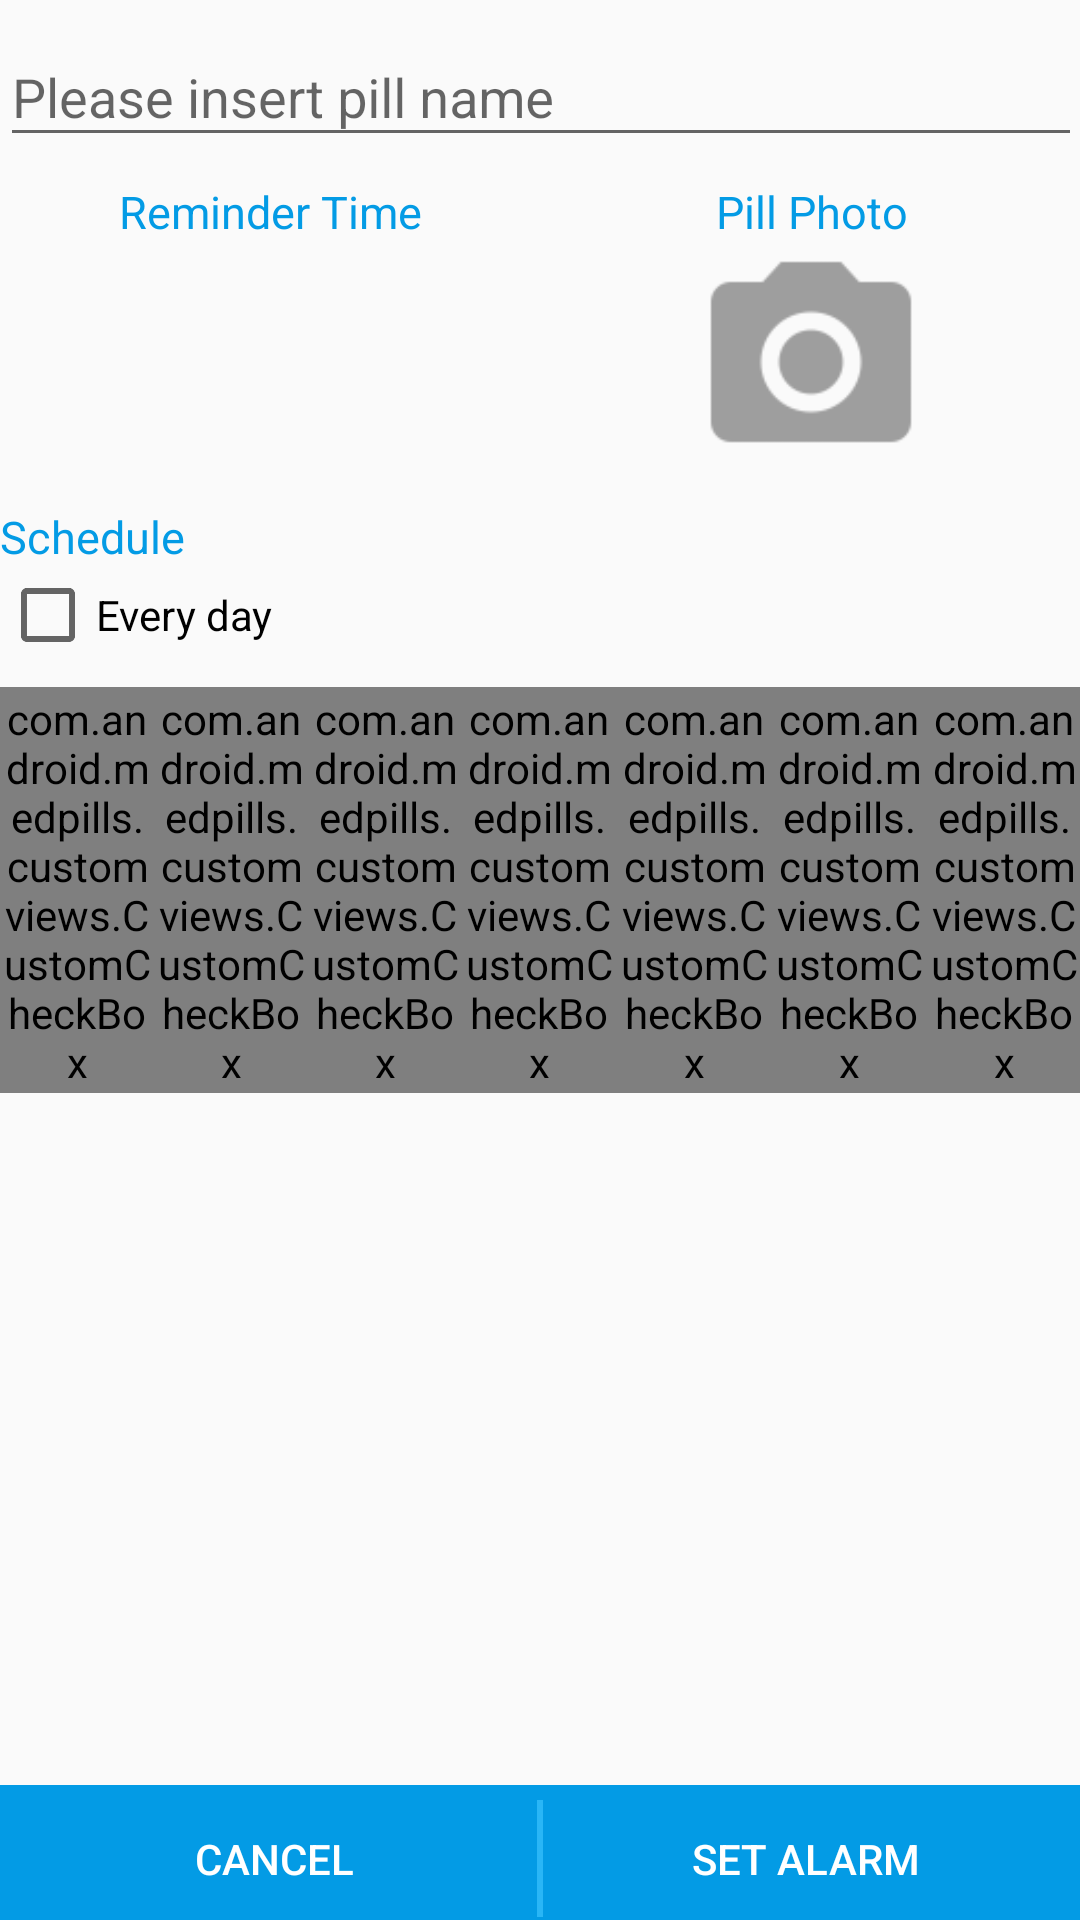

Where to tap for icons on this 1080px x 1920px app screen, as point (x, y):
photo camera: point (811, 352)
